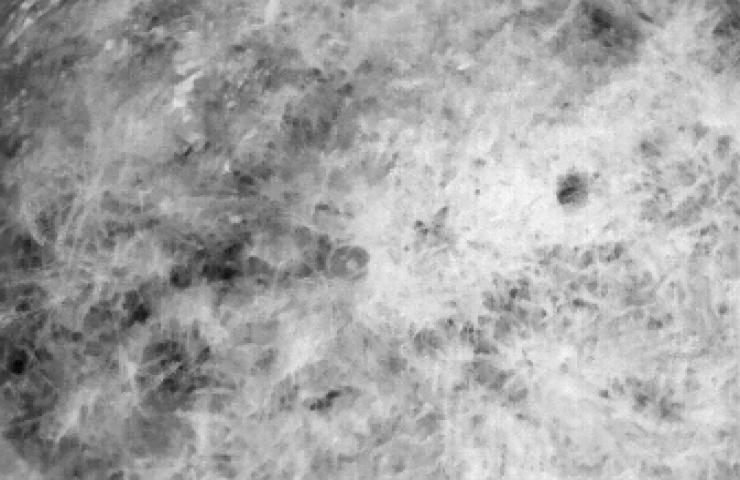landmines: (324, 242, 378, 285)
